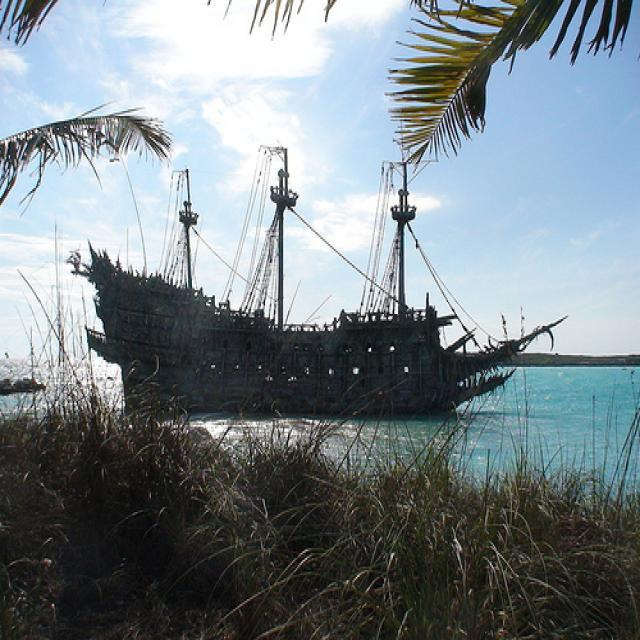Ship: (80, 147, 538, 424)
